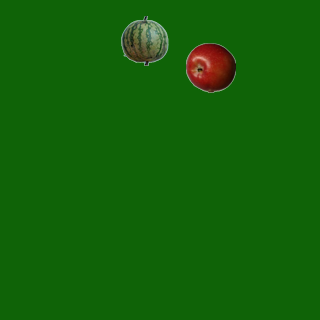Apple Braeburn: (185, 42, 235, 92)
Watermelon: (119, 15, 169, 65)
